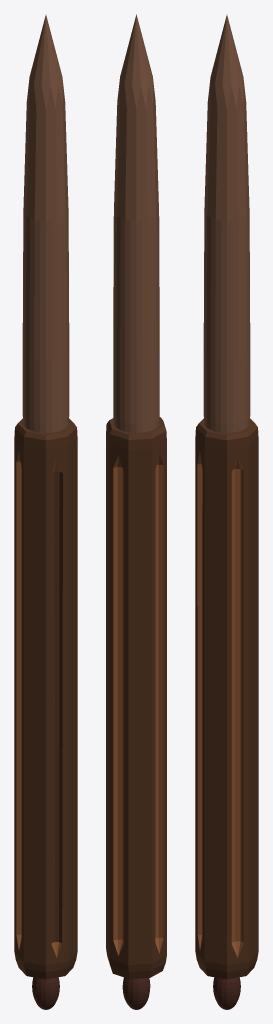
Rendered from Wand 506.glb.
The picture shows the model from 3 angles, left to right: view 1: azimuth 90°, elevation 25°; view 2: azimuth 210°, elevation 25°; view 3: azimuth 270°, elevation 25°; orthographic projection.
Visible parts, largest first — view 1: GeneratedWand; view 2: GeneratedWand; view 3: GeneratedWand.
Boxes of the visible parts, bbox=[...] form: GeneratedWand: bbox=[14, 15, 77, 1009]; GeneratedWand: bbox=[106, 14, 166, 1009]; GeneratedWand: bbox=[195, 15, 258, 1009].
Size of the model in its own units: 0.0289 by 0.5033 by 0.0289.
